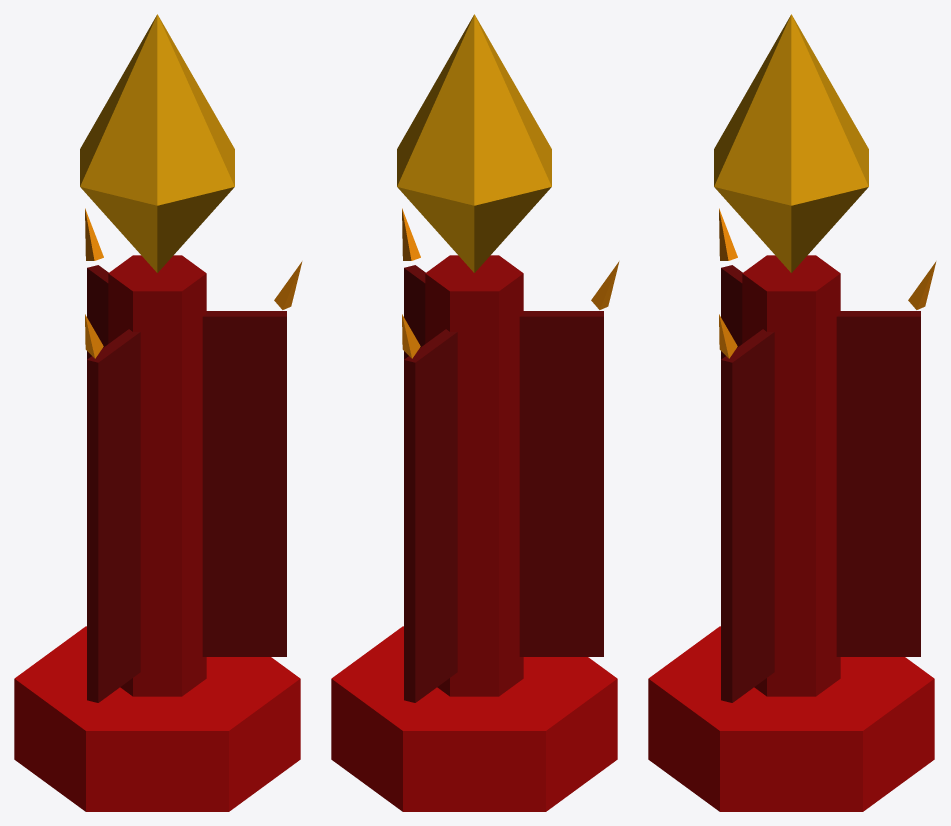
The model's file is emitter.glb.
3 renders of one model, left to right at view 1: azimuth 30°, elevation 25°; view 2: azimuth 150°, elevation 25°; view 3: azimuth 270°, elevation 25°, orthographic.
Parts seen in each view (by area): view 1: emitter; view 2: emitter; view 3: emitter.
Boxes of the visible parts, left/top/right/bottom form: emitter: left=14, top=14, right=302, bottom=811; emitter: left=331, top=14, right=619, bottom=811; emitter: left=648, top=14, right=936, bottom=811.
Size of the model in its own units: 2.81 by 9.2 by 3.22.
